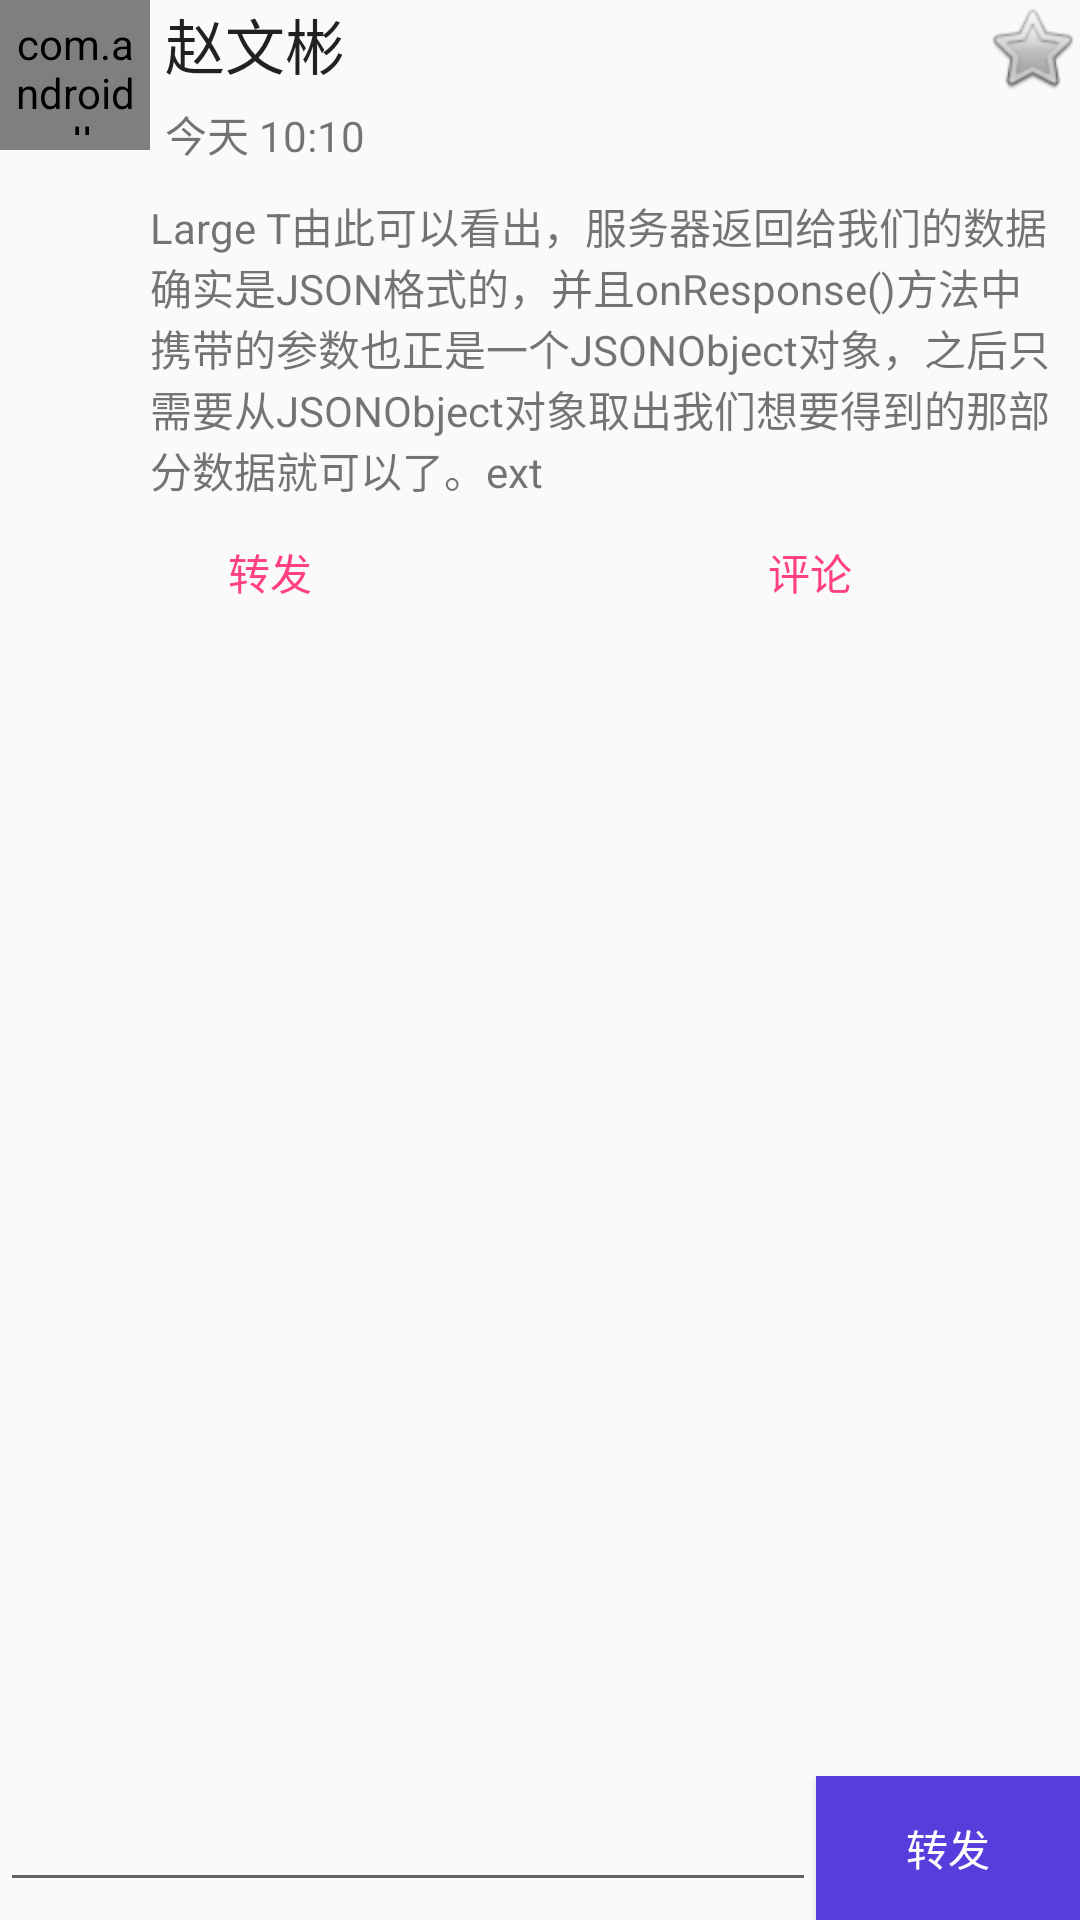

Point at icon controls on the screen. Image size 1080 x 1920, points as point (x, y).
collection: point (1033, 49)
